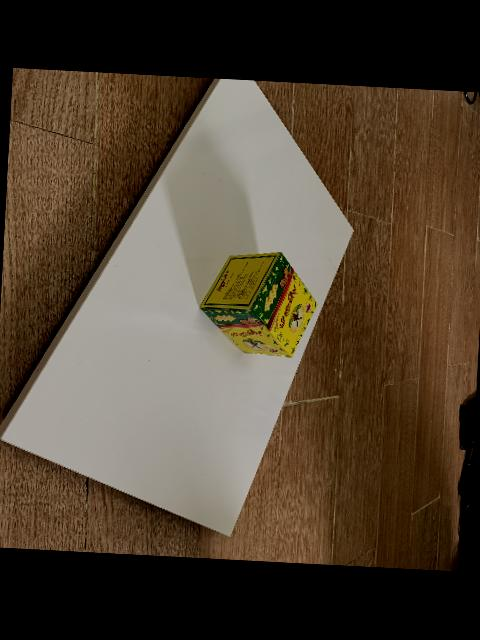luong_kho: (200, 252, 317, 358)
